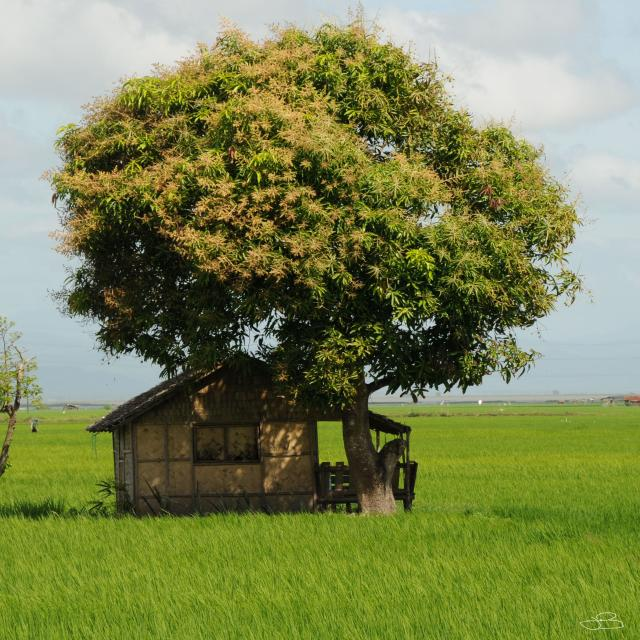Mango-Tree: (37, 4, 599, 496)
